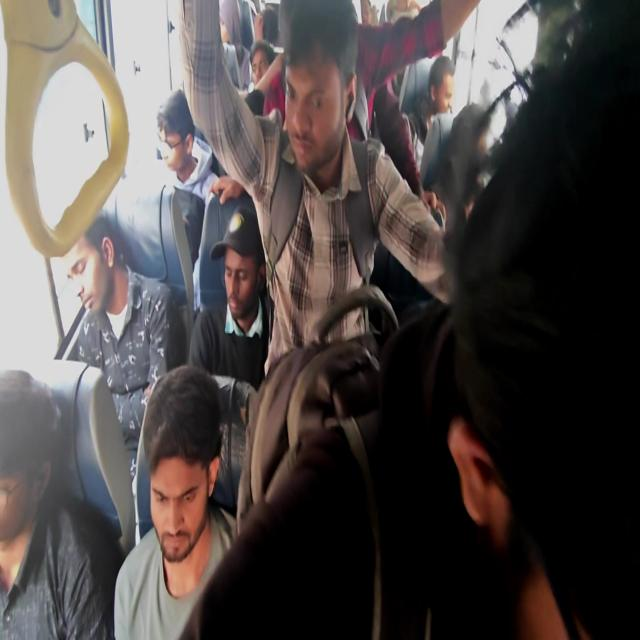person: (177, 4, 639, 637), (446, 5, 639, 638), (178, 0, 454, 378), (63, 213, 184, 544), (113, 364, 238, 638), (0, 368, 124, 639), (187, 205, 270, 390), (156, 88, 220, 205), (427, 55, 455, 115)
